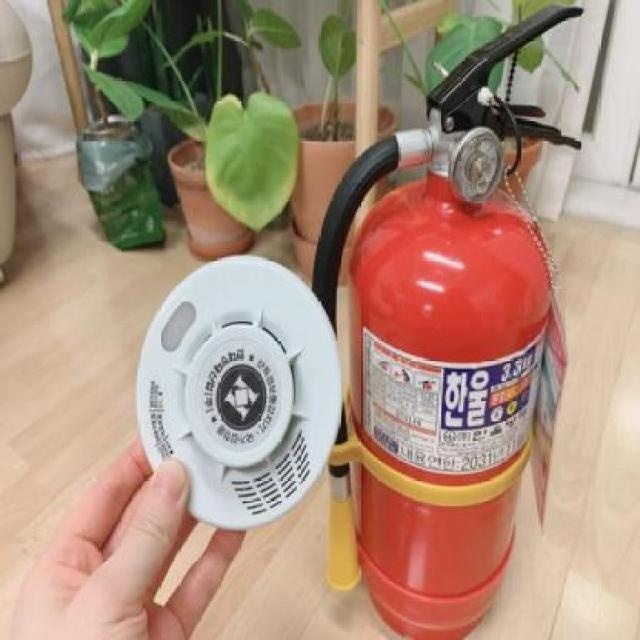fire extinguisher: (311, 3, 584, 640)
